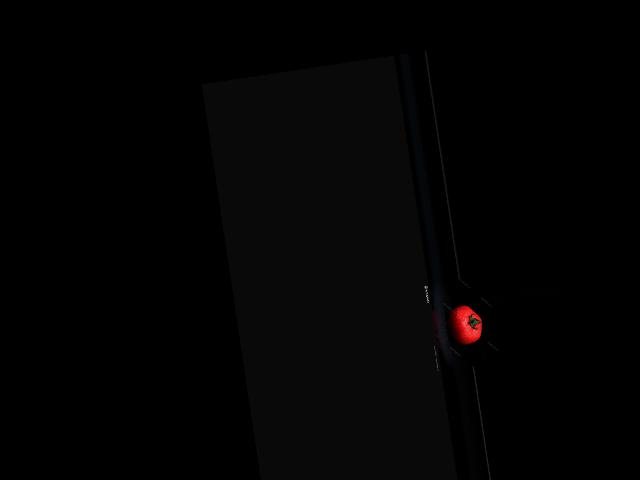tomato: (445, 303, 485, 347)
